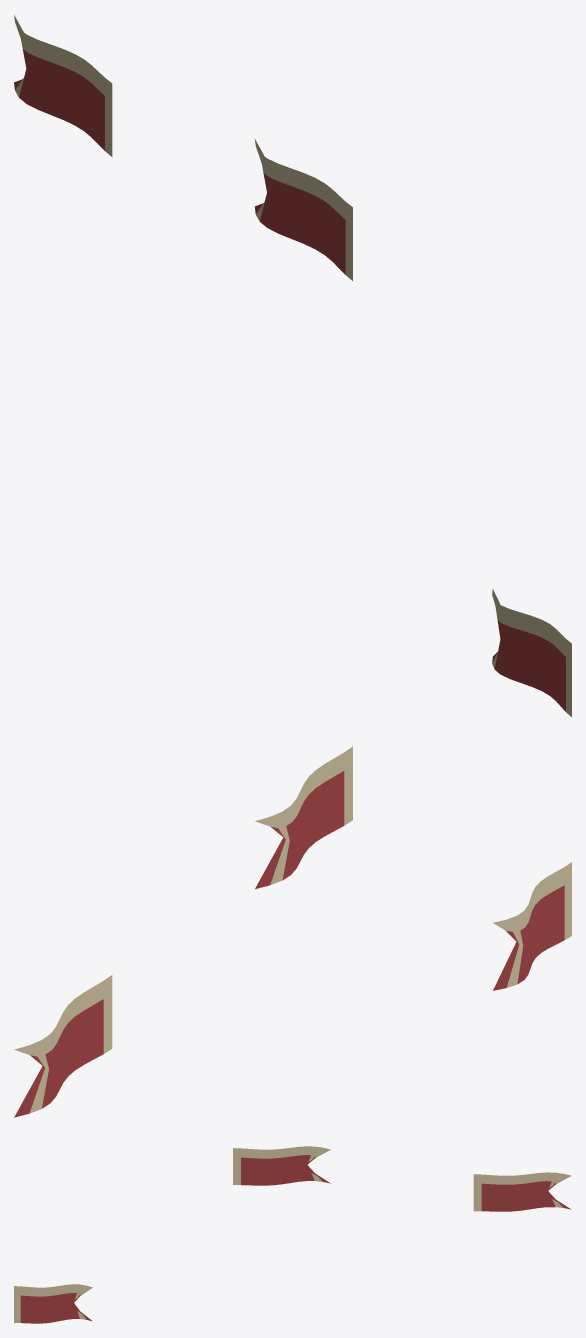
Rendered from pennants.glb.
3 renders of one model, top to bottom at view 1: azimuth 30°, elevation 25°; view 2: azimuth 150°, elevation 25°; view 3: azimuth 270°, elevation 25°, orthographic. The views are drawn at different scales.
Parts seen in each view (by area): view 1: Aft pennant, Main pennant, Fore pennant; view 2: Aft pennant, Main pennant, Fore pennant; view 3: Aft pennant, Main pennant, Fore pennant.
Part boxes in pixels (x1=…): Aft pennant: x1=14, y1=15, x2=112, y2=156; Main pennant: x1=254, y1=139, x2=352, y2=280; Fore pennant: x1=492, y1=589, x2=571, y2=716; Aft pennant: x1=14, y1=975, x2=112, y2=1117; Main pennant: x1=255, y1=746, x2=352, y2=888; Fore pennant: x1=493, y1=862, x2=571, y2=990; Aft pennant: x1=473, y1=1172, x2=571, y2=1211; Main pennant: x1=233, y1=1146, x2=330, y2=1185; Fore pennant: x1=14, y1=1284, x2=92, y2=1323.
Size of the model in its own units: 0.1973 by 4.02 by 11.62.
